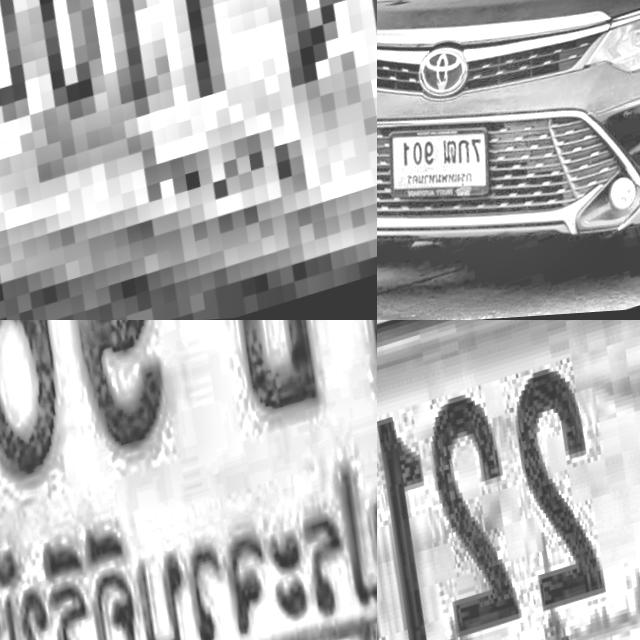license-plate: (0, 0, 377, 320), (0, 320, 377, 640), (377, 320, 640, 640), (381, 100, 522, 222)
